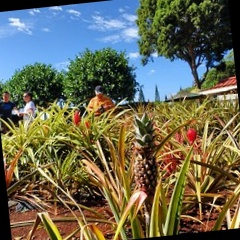Pineapple: (132, 109, 159, 197)
